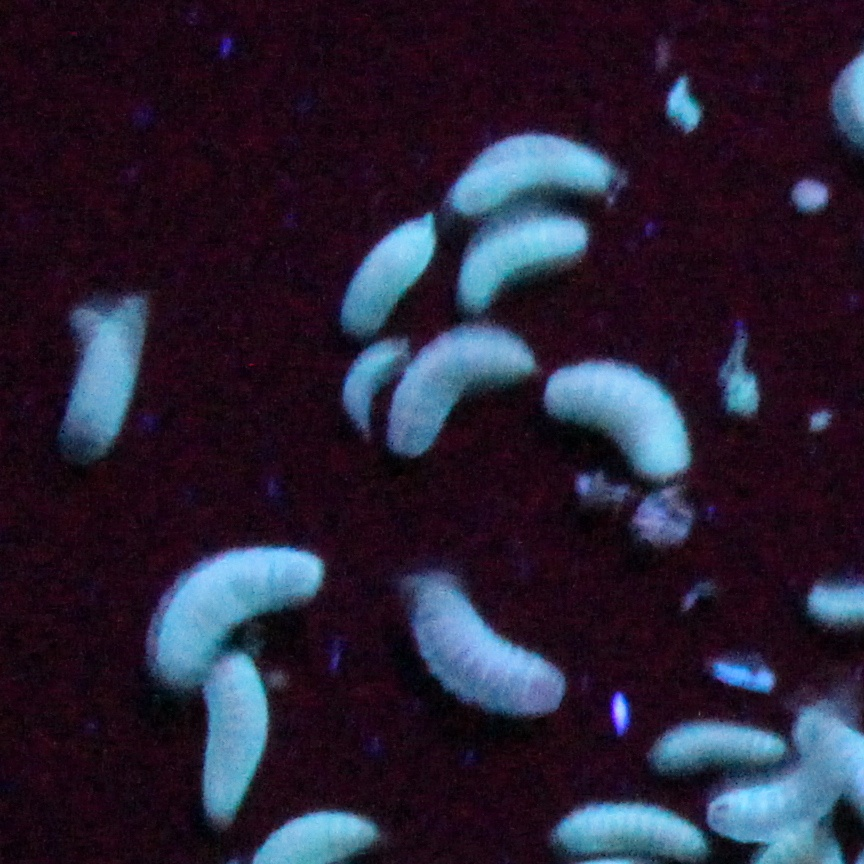larve: (136, 537, 326, 679), (411, 575, 563, 712), (543, 360, 701, 489), (386, 329, 538, 454), (443, 133, 624, 217), (465, 212, 588, 317), (195, 656, 270, 821), (74, 300, 145, 465), (338, 212, 432, 335), (551, 804, 709, 862), (334, 340, 403, 440), (649, 721, 786, 769)
